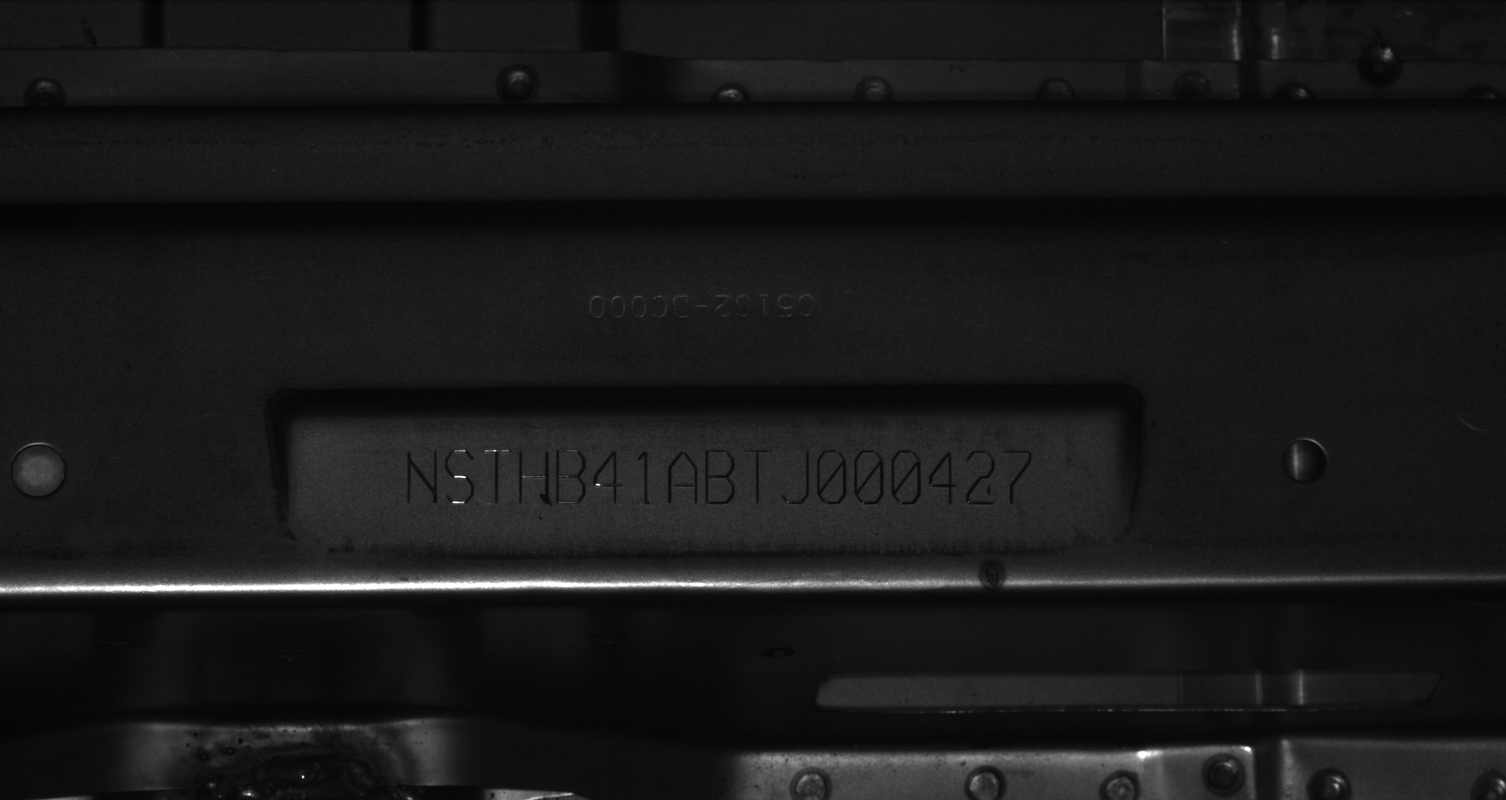bl7m_vin_plate: (283, 413, 1129, 555)
